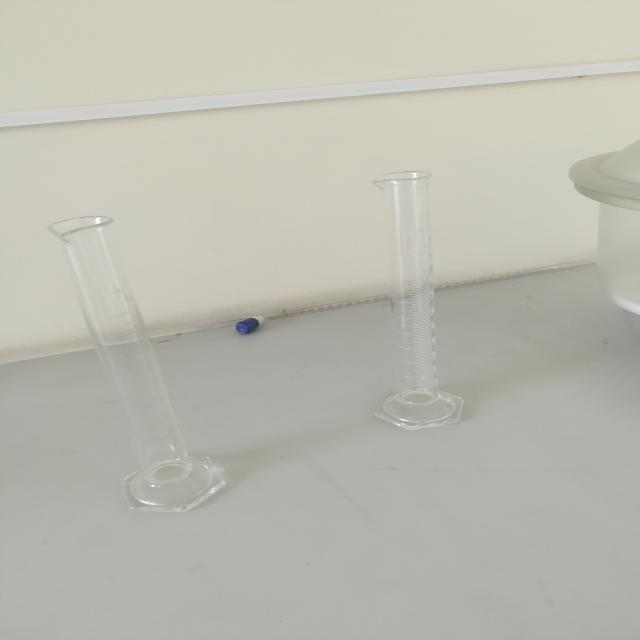Measuring_Cylinder: (33, 187, 254, 537), (342, 144, 504, 449)
